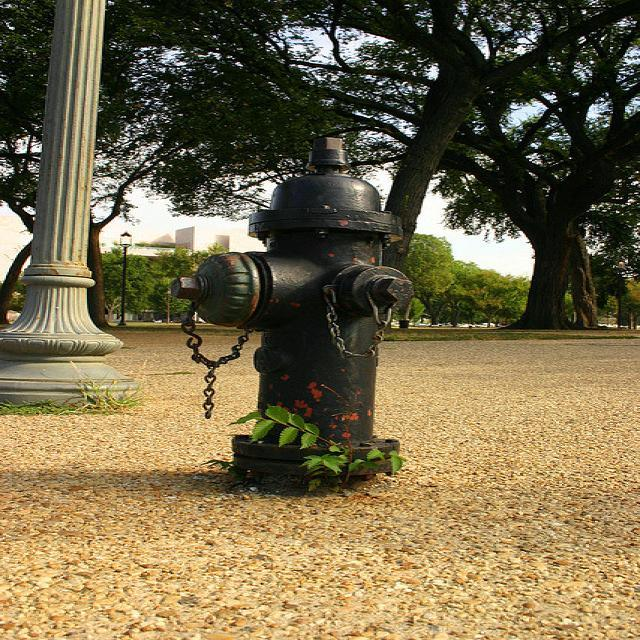fire_hydrant: (162, 126, 414, 500)
